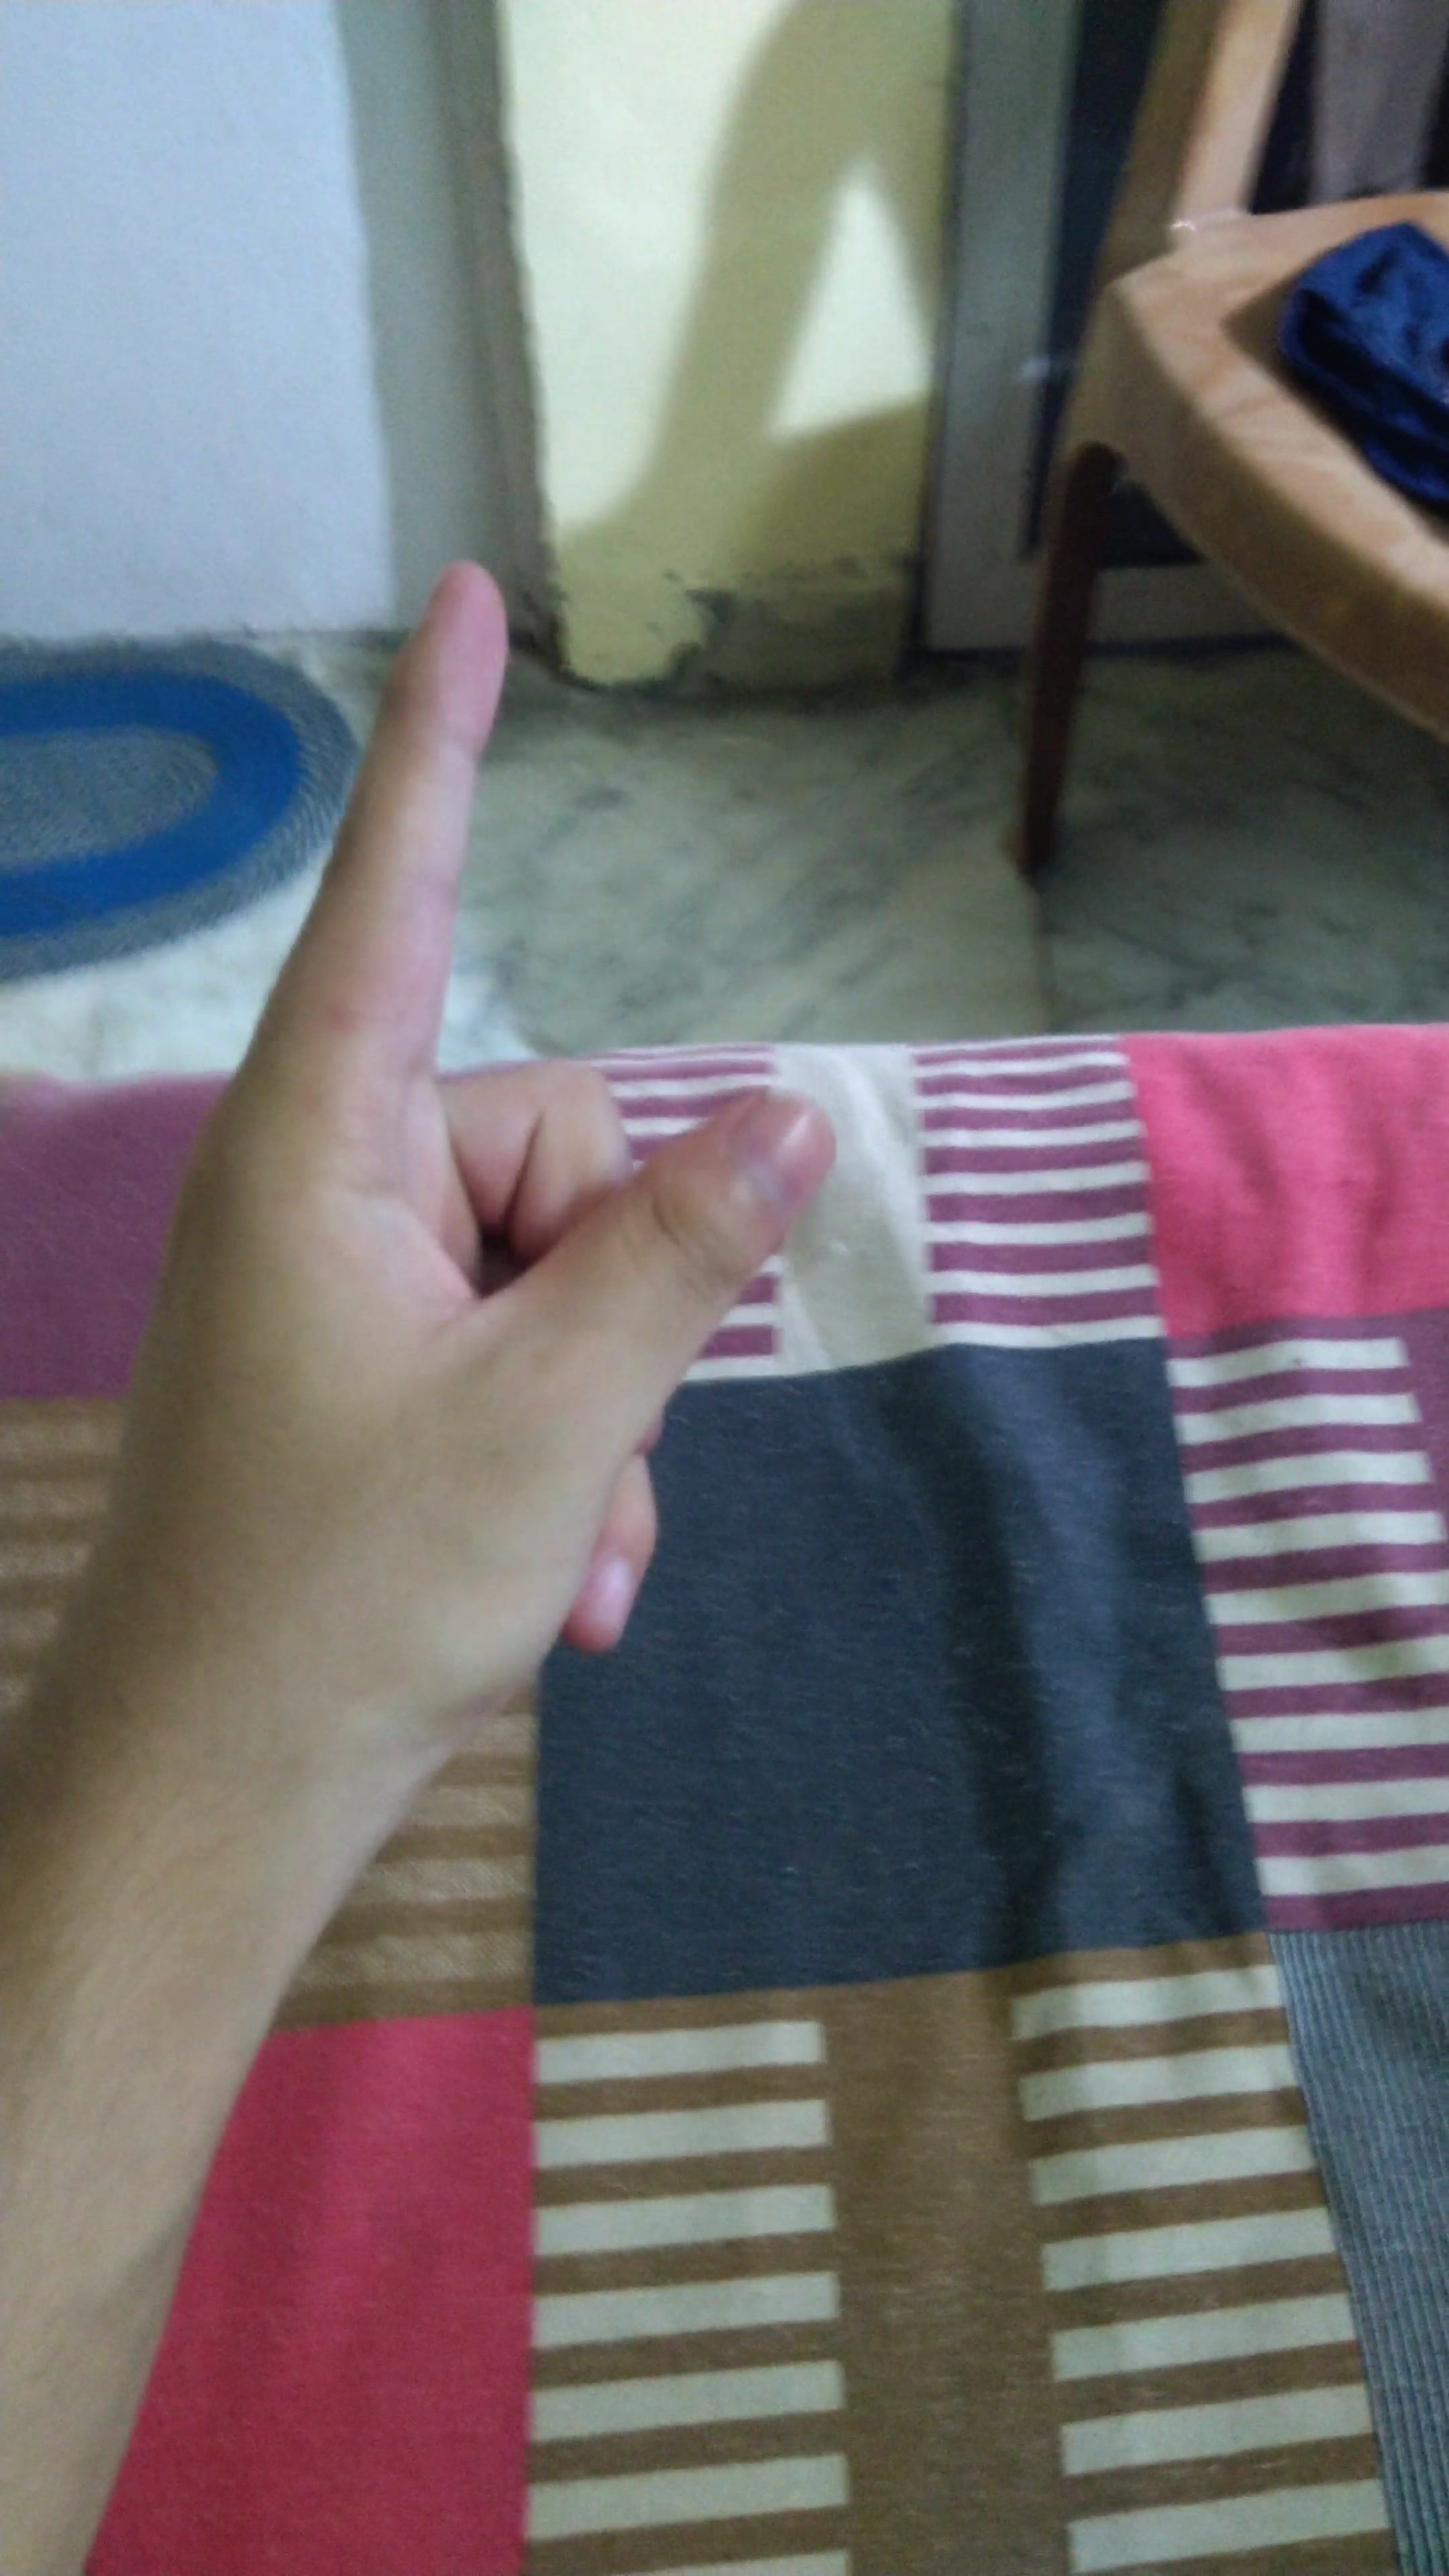hand: (51, 518, 885, 1828)
